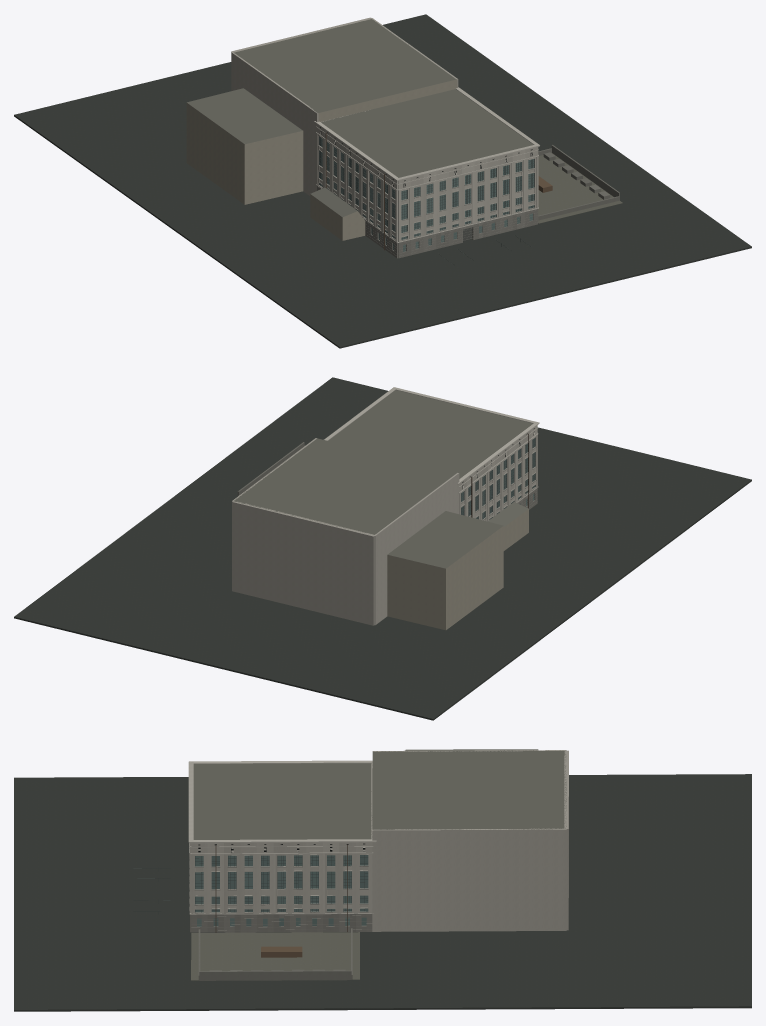
File: berghain-study.glb
3 renders of one model, top to bottom at view 1: azimuth 30°, elevation 25°; view 2: azimuth 150°, elevation 25°; view 3: azimuth 270°, elevation 25°, orthographic. The views are drawn at different scales.
Visible parts, largest first — view 1: site/ground/box, shell/render/box, DEBE3DhgwVF7HsU2 roof, DEBE3DqCCB6bZkIF roof, WallSurface (×2), shell/glass/box, RoofSurface (×2), shell/stone/box, shell/steel/box, garden/gravel/box, shell/pale/box, garden/concrete/box (+2 smaller); view 2: site/ground/box, shell/render/box, DEBE3DhgwVF7HsU2 roof, DEBE3DqCCB6bZkIF roof, WallSurface (×2), RoofSurface, shell/pale/box, shell/steel/box, shell/glass/box; view 3: site/ground/box, shell/render/box, DEBE3DhgwVF7HsU2 roof, DEBE3DqCCB6bZkIF roof, garden/gravel/box, shell/glass/box, shell/stone/box, shell/pale/box, garden/concrete/box, shell/steel/box, shell/recess/box, garden/timber/box.
Part boxes in pixels (x1=…): site/ground/box: x1=14, y1=14, x2=751, y2=348; shell/render/box: x1=231, y1=17, x2=538, y2=241; DEBE3DhgwVF7HsU2 roof: x1=234, y1=19, x2=456, y2=112; DEBE3DqCCB6bZkIF roof: x1=321, y1=89, x2=533, y2=177; WallSurface (×2): x1=186, y1=103, x2=365, y2=240; shell/glass/box: x1=319, y1=137, x2=534, y2=251; RoofSurface (×2): x1=187, y1=88, x2=357, y2=217; shell/stone/box: x1=317, y1=145, x2=538, y2=258; shell/steel/box: x1=319, y1=136, x2=534, y2=239; garden/gravel/box: x1=538, y1=153, x2=622, y2=223; shell/pale/box: x1=314, y1=87, x2=539, y2=242; garden/concrete/box: x1=538, y1=145, x2=619, y2=220; site/ground/box: x1=14, y1=377, x2=751, y2=720; shell/render/box: x1=232, y1=425, x2=537, y2=625; DEBE3DhgwVF7HsU2 roof: x1=233, y1=438, x2=457, y2=534; DEBE3DqCCB6bZkIF roof: x1=328, y1=390, x2=532, y2=478; WallSurface (×2): x1=387, y1=509, x2=528, y2=630; RoofSurface: x1=387, y1=511, x2=503, y2=568; shell/pale/box: x1=324, y1=387, x2=539, y2=502; shell/steel/box: x1=461, y1=438, x2=535, y2=519; shell/glass/box: x1=461, y1=438, x2=535, y2=519; site/ground/box: x1=14, y1=774, x2=751, y2=1011; shell/render/box: x1=189, y1=750, x2=568, y2=931; DEBE3DhgwVF7HsU2 roof: x1=372, y1=750, x2=566, y2=829; DEBE3DqCCB6bZkIF roof: x1=193, y1=763, x2=372, y2=839; garden/gravel/box: x1=191, y1=932, x2=359, y2=980; shell/glass/box: x1=195, y1=855, x2=368, y2=926; shell/stone/box: x1=189, y1=854, x2=372, y2=932; shell/pale/box: x1=188, y1=760, x2=376, y2=914; garden/concrete/box: x1=198, y1=928, x2=352, y2=980; shell/steel/box: x1=195, y1=855, x2=367, y2=912; shell/recess/box: x1=191, y1=915, x2=371, y2=930; garden/timber/box: x1=261, y1=946, x2=302, y2=957.
Size of the model in its own units: 114 by 23.2 by 150.
39 materials, 23 textured.
